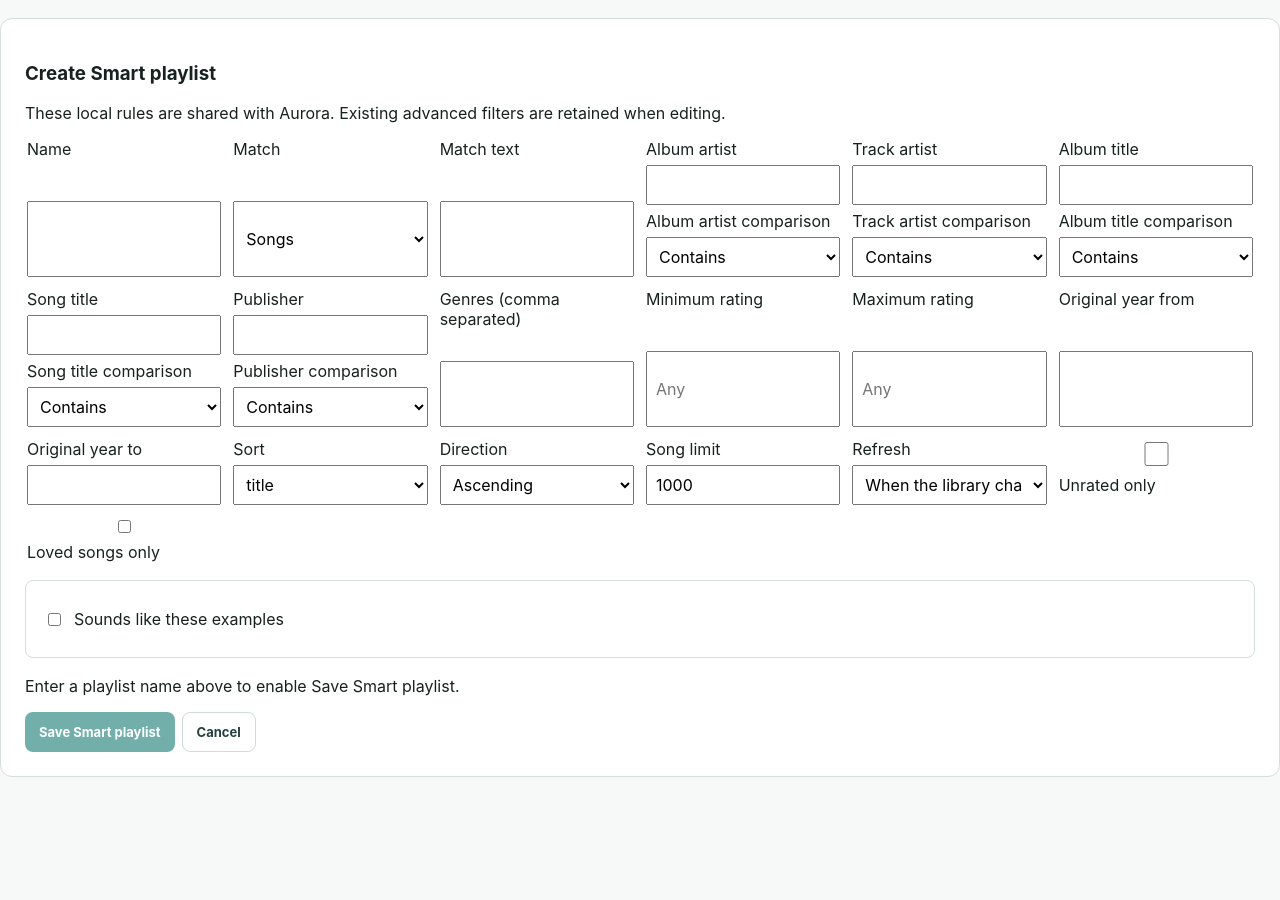
Test: explains why Save is disabled while the playlist name is missing
The image size is (1280, 900).
Expected: the message shows "Enter a playlist name above", [25,676,460,696]
Expected: the button "Save Smart playlist" is disabled, [25,712,174,752]
Type "Named mix" into the field labelled "Name" at (124, 239), box [27,201,221,277]
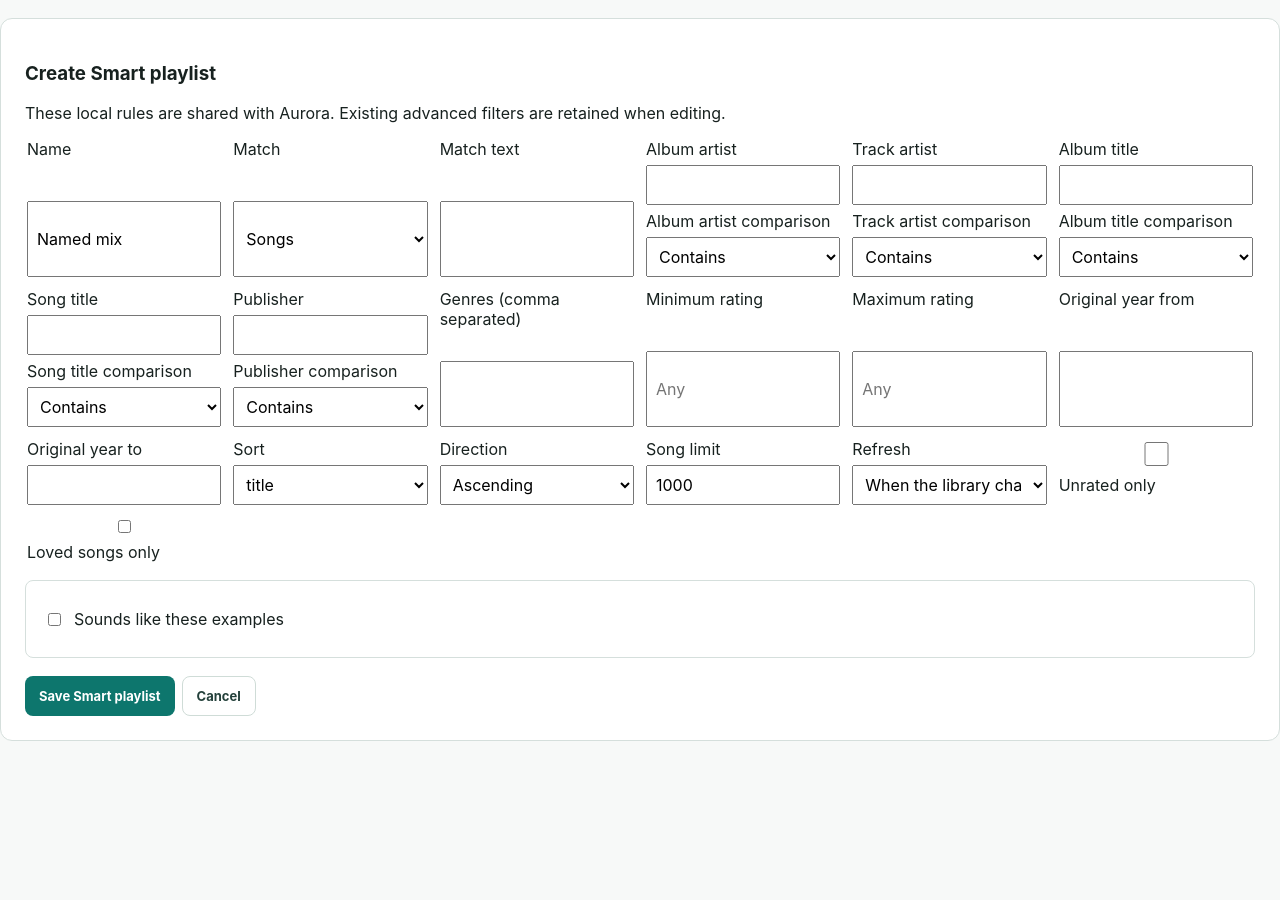
Now the text "Enter a playlist name above to enable Save Smart playlist." is gone
Now the button "Save Smart playlist" is enabled, box [25,676,174,716]
